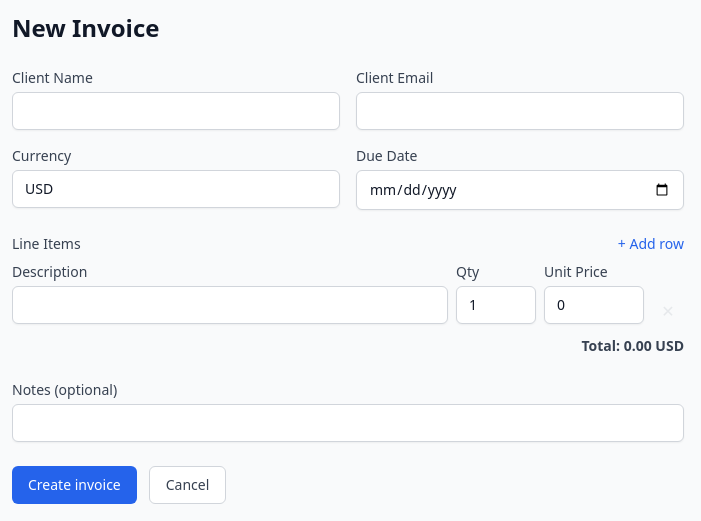
Test: InvoiceFormPage › calculates grand total from line items
Replace the text in the number field labelled "Qty" with "3": (496,305) left=456, top=286, right=536, bottom=324
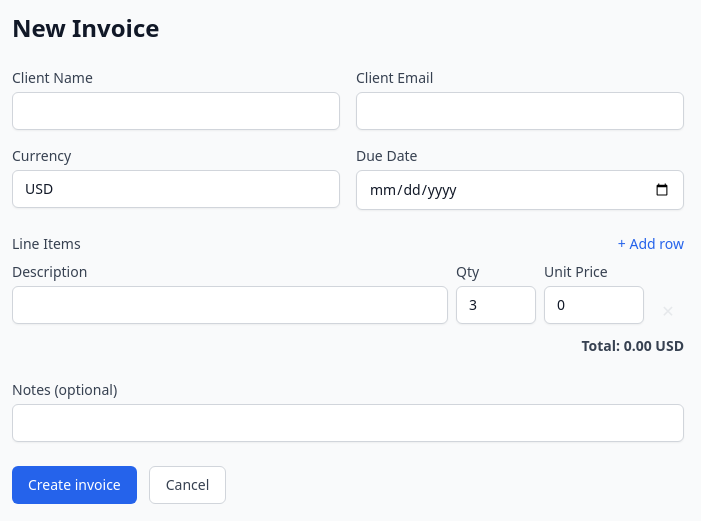
Replace the text in the number field labelled "Unit Price" with "50": (594,305) left=544, top=286, right=644, bottom=324
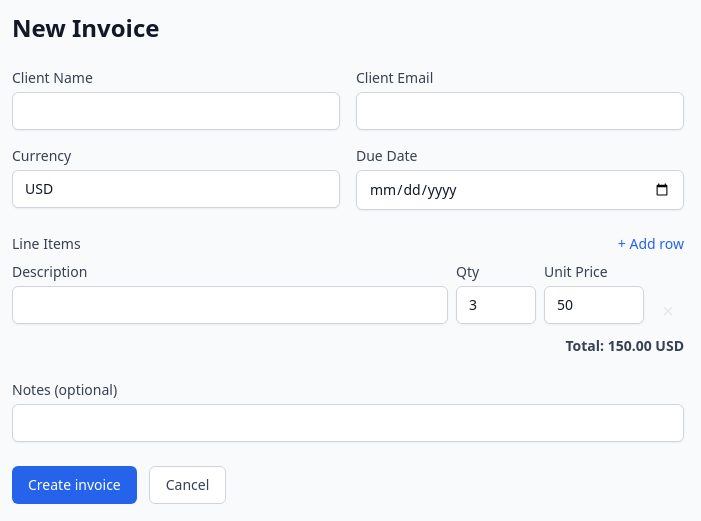
expect the text "Total: 150.00 USD" is shown: met, box left=565, top=336, right=684, bottom=355
